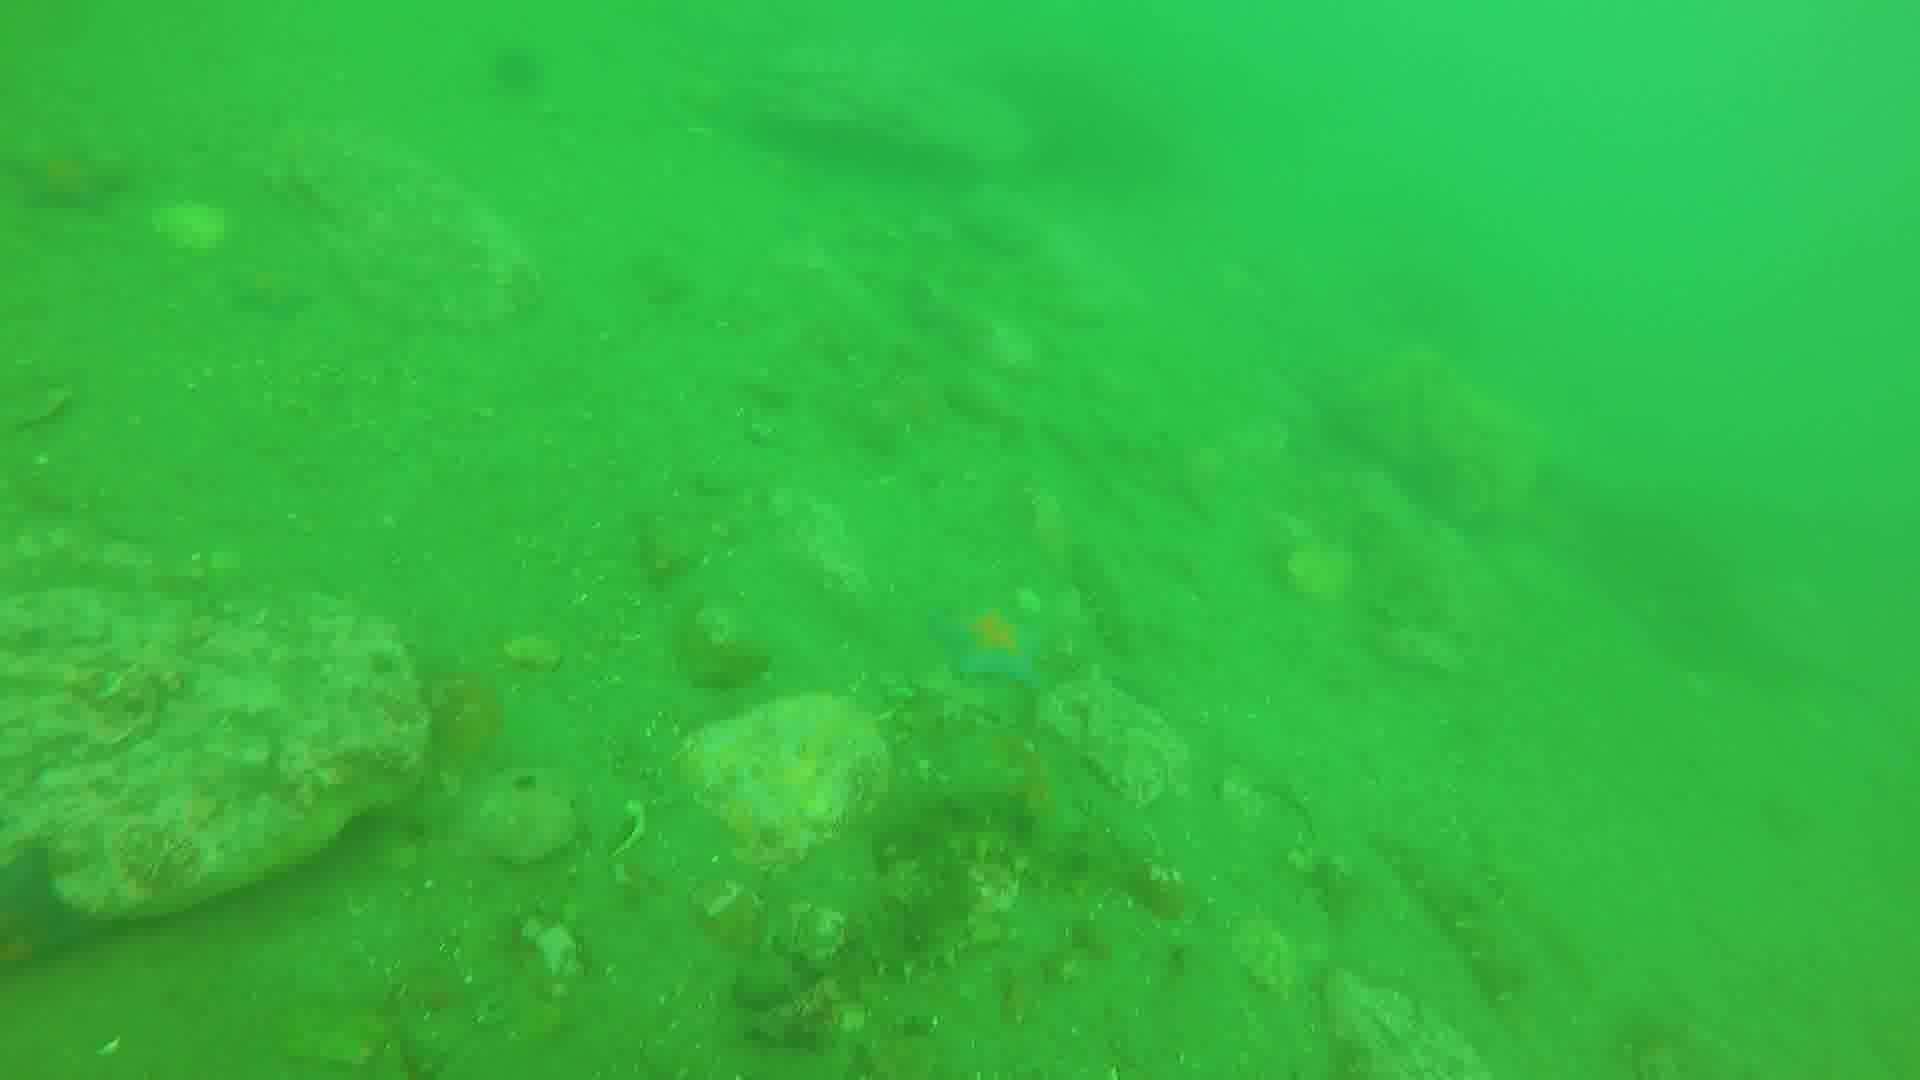holothurian: (1371, 824, 1538, 1002), (868, 789, 1073, 886), (864, 866, 982, 985), (1069, 539, 1145, 657)
starfish: (934, 597, 1060, 694), (11, 138, 144, 222), (225, 258, 318, 320)
